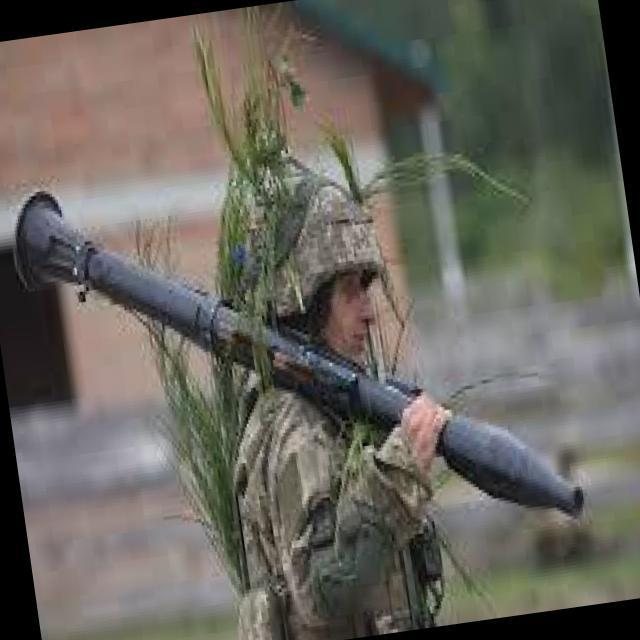rocket: (7, 110, 589, 586)
